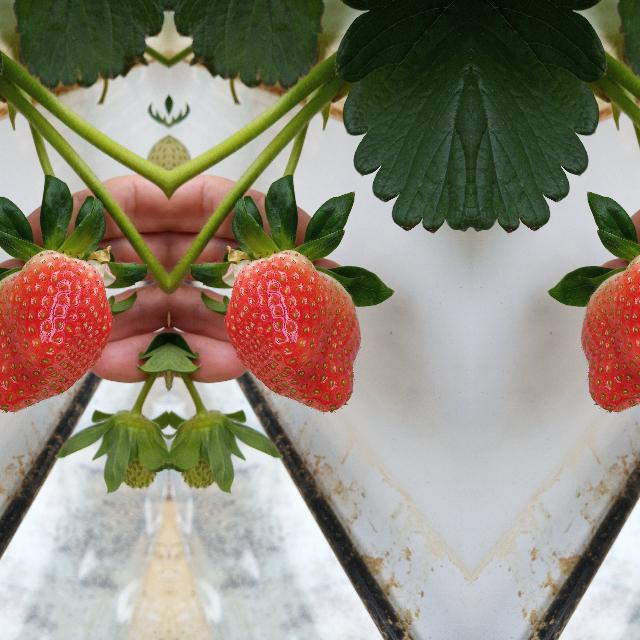Health_100: (224, 250, 360, 414), (0, 249, 112, 414), (580, 249, 640, 414)
